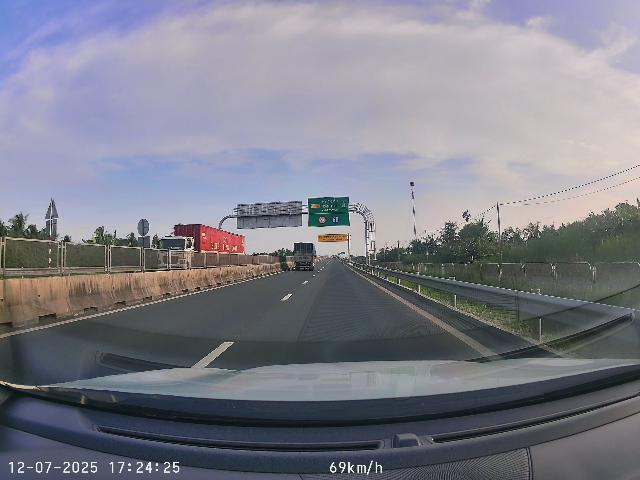127-toc-do-toi-da-90: (318, 215, 327, 225)
306-toc-do-toi-thieu-60: (331, 215, 340, 224)
437-bat-dau-duong-cao-toc: (340, 200, 347, 209)
